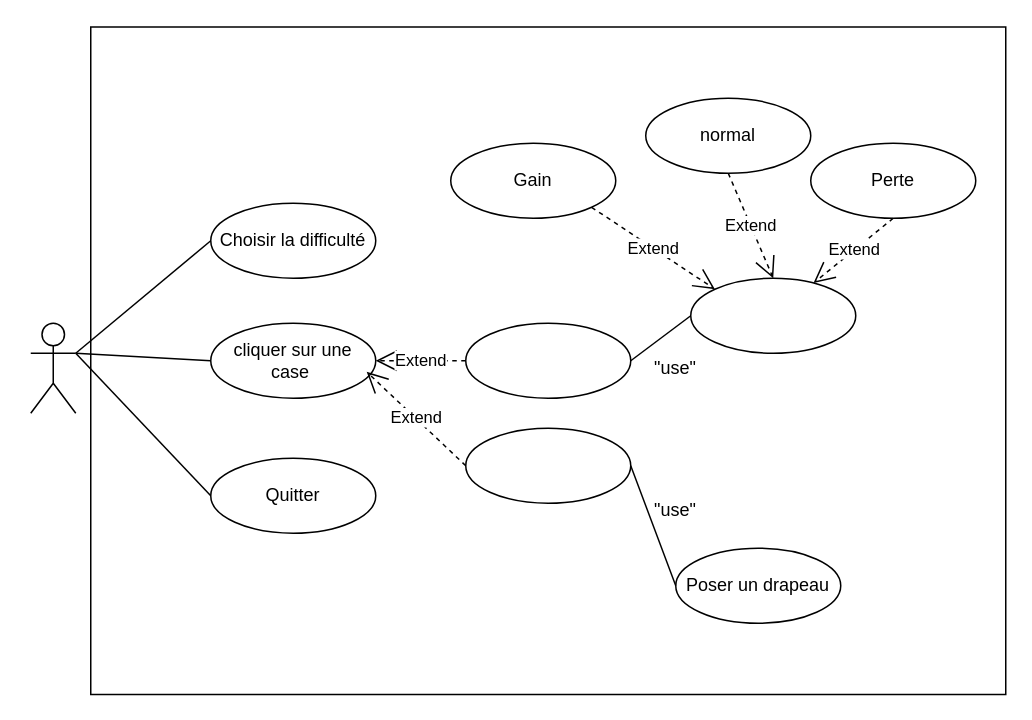
This 1032x720 diagram has some shape labels left out. Here are the shapes that lost their labels. From the top down, the box of each, then its label:
(689, 277, 856, 353): Découvrir
(29, 322, 76, 413): Joueur
(464, 322, 631, 398): clique gauche
(464, 427, 631, 503): clique droit
